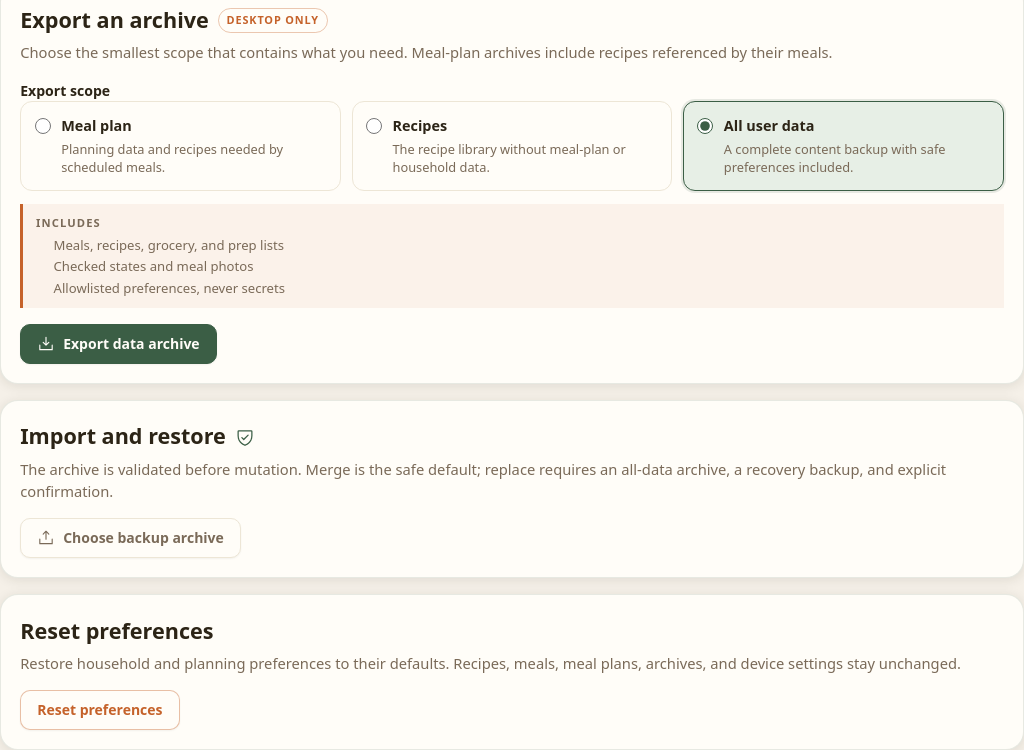
Test: DataManagementSection › shows an inline reset failure
The image size is (1024, 750).
(page scrolled)
Step 1. Click the button "Reset preferences" → click(100, 710), box top-left (20, 690), bottom-right (180, 730)
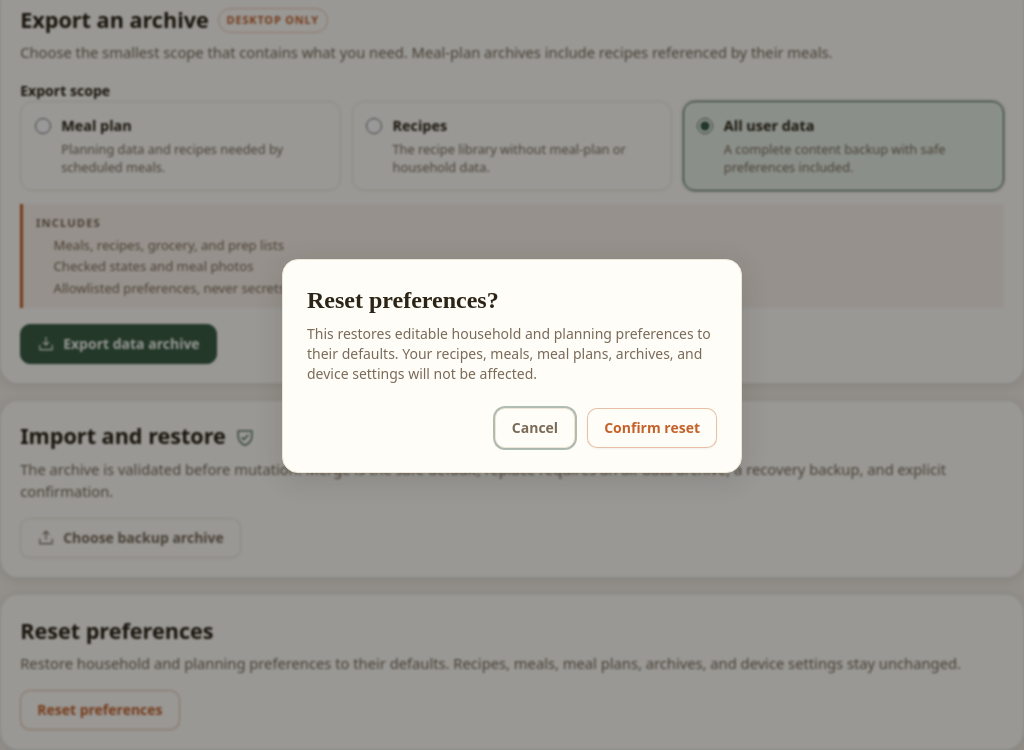
Step 2. Click the button "Confirm reset" → click(652, 428), box top-left (587, 408), bottom-right (717, 448)
(page scrolled)
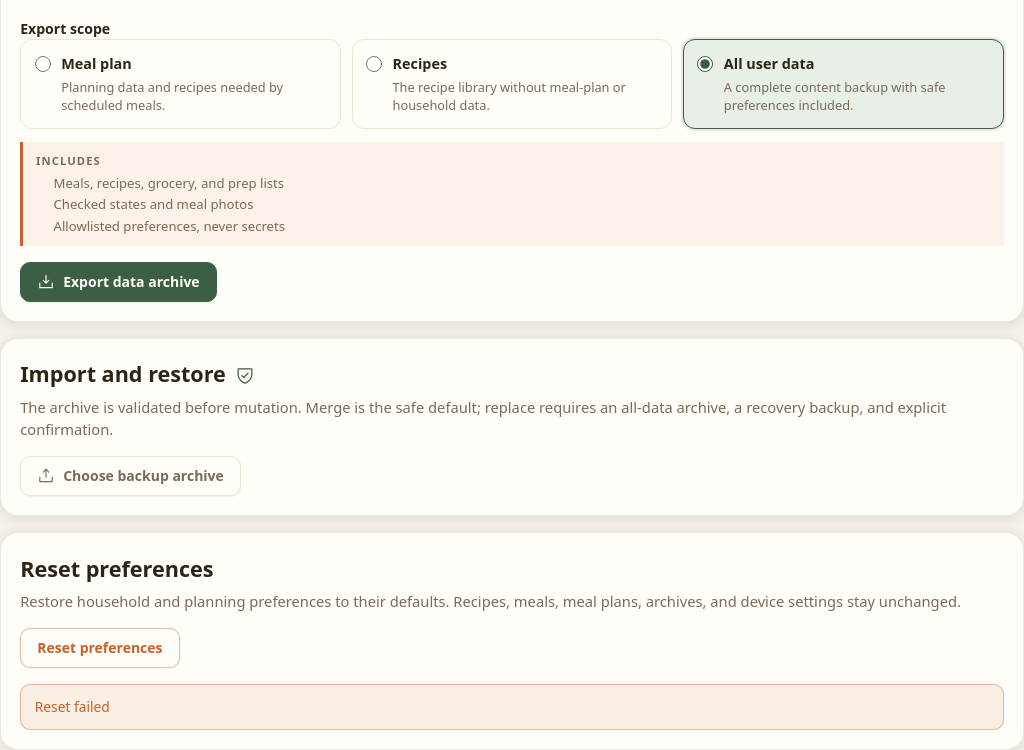
Check: the message reads "Reset failed", box top-left (35, 697), bottom-right (110, 716)
